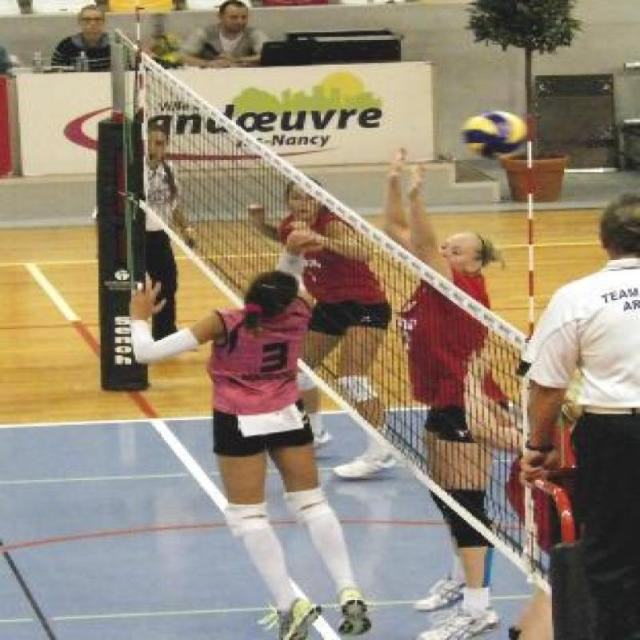volleyball: (459, 108, 527, 160)
